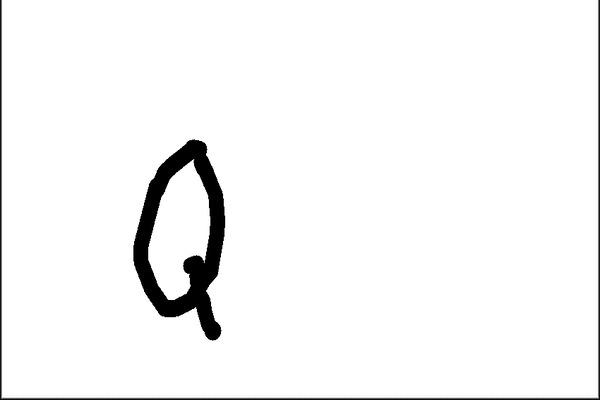Q: (121, 130, 241, 352)
